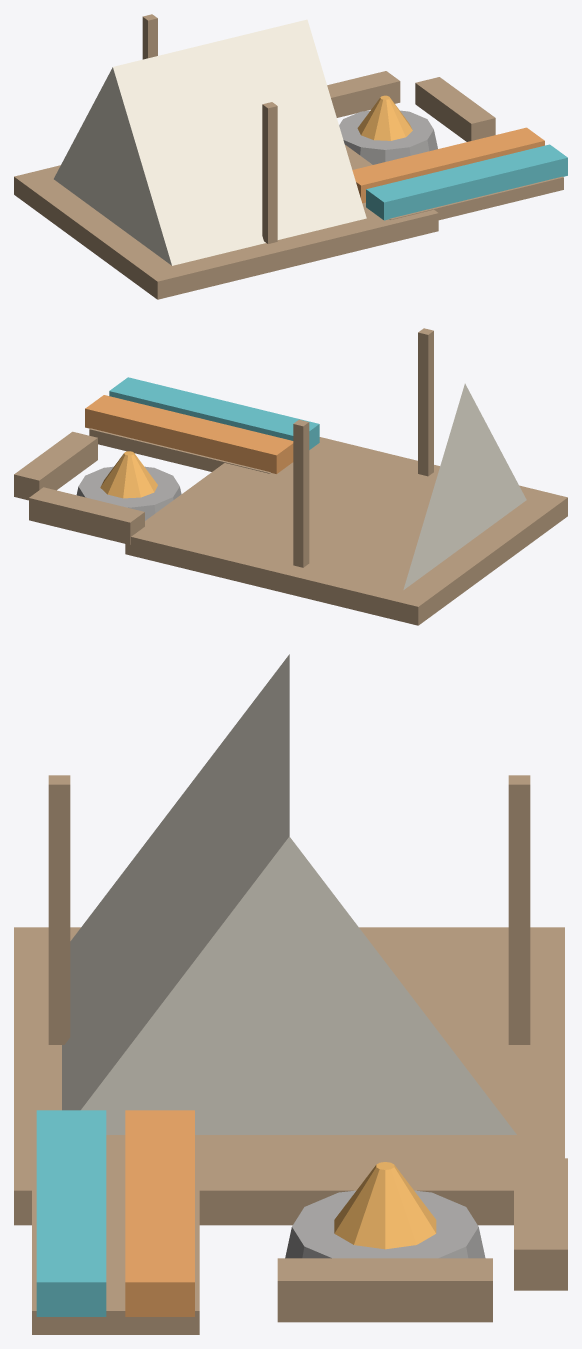
The model's file is prop_27_suoi_vang_glamping_aframe_wooden_tent_campfire_and_kayak_dock_kit.glb.
3 renders of one model, top to bottom at view 1: azimuth 30°, elevation 25°; view 2: azimuth 150°, elevation 25°; view 3: azimuth 270°, elevation 25°, orthographic. The views are drawn at different scales.
Visible parts, largest first — view 1: prop_27_suoi_vang_glamping_aframe_wooden_tent_campfire_and_k; view 2: prop_27_suoi_vang_glamping_aframe_wooden_tent_campfire_and_k; view 3: prop_27_suoi_vang_glamping_aframe_wooden_tent_campfire_and_k.
Boxes of the visible parts, left/top/right/bottom form: prop_27_suoi_vang_glamping_aframe_wooden_tent_campfire_and_k: left=14, top=14, right=567, bottom=299; prop_27_suoi_vang_glamping_aframe_wooden_tent_campfire_and_k: left=14, top=328, right=567, bottom=625; prop_27_suoi_vang_glamping_aframe_wooden_tent_campfire_and_k: left=14, top=654, right=567, bottom=1334.
Size of the model in its own units: 7.7 by 3.07 by 4.62.
